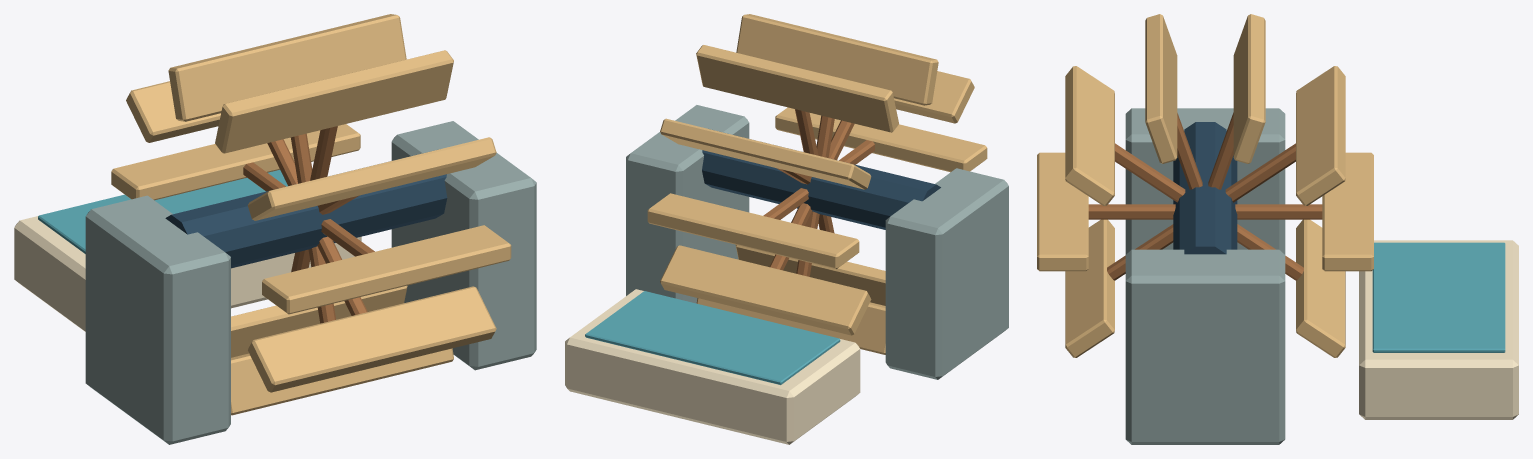
The model's file is tidalworks.glb.
3 renders of one model, left to right at view 1: azimuth 30°, elevation 25°; view 2: azimuth 150°, elevation 25°; view 3: azimuth 270°, elevation 25°, orthographic. The views are drawn at different scales.
Visible parts, largest first — view 1: wheel hub, stone support; view 2: stone support, wheel hub; view 3: stone support, wheel hub.
Boxes of the visible parts, box(x1,y1,x2,y2) form: wheel hub: box(111, 14, 511, 415); stone support: box(14, 121, 536, 444); stone support: box(565, 105, 1008, 444); wheel hub: box(647, 14, 987, 354); stone support: box(1125, 108, 1518, 444); wheel hub: box(1037, 14, 1373, 357).
Size of the model in its own units: 1.66 by 1.33 by 1.96.
